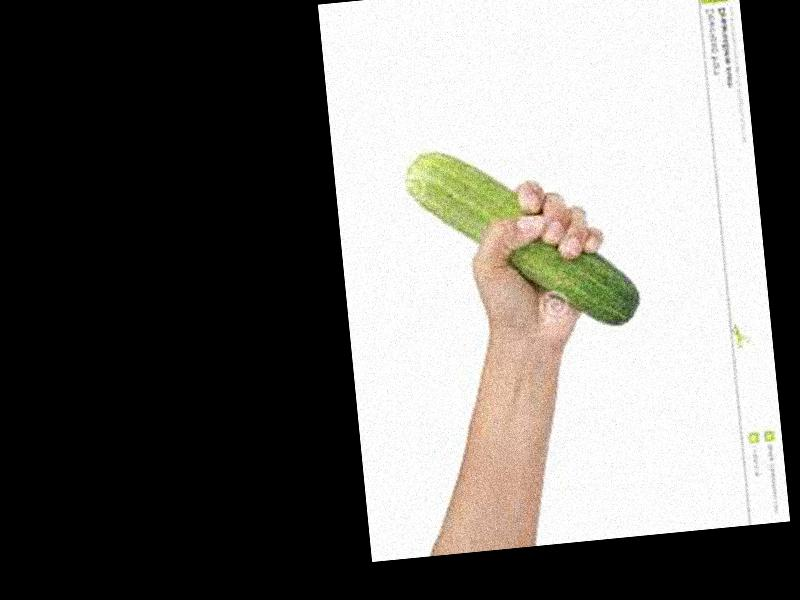Cucumber: (405, 134, 642, 349)
